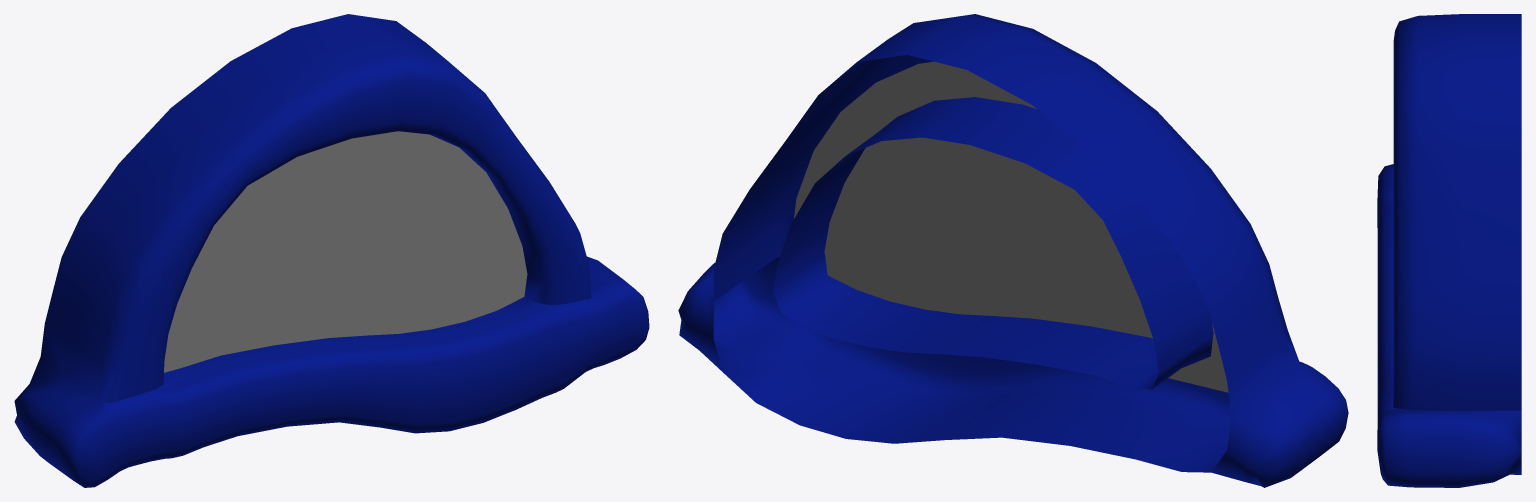
File: SM_Window03.fbx
The picture shows the model from 3 angles, left to right: view 1: azimuth 30°, elevation 25°; view 2: azimuth 150°, elevation 25°; view 3: azimuth 270°, elevation 25°; orthographic projection. The views are drawn at different scales.
Parts seen in each view (by area): view 1: Window03_Circle006; view 2: Window03_Circle006; view 3: Window03_Circle006.
Boxes of the visible parts, x1,y1,x2,y2 form: Window03_Circle006: [14, 14, 649, 487]; Window03_Circle006: [678, 14, 1348, 487]; Window03_Circle006: [1377, 14, 1521, 487].
Size of the model in its own units: 231 by 144 by 51.15.
